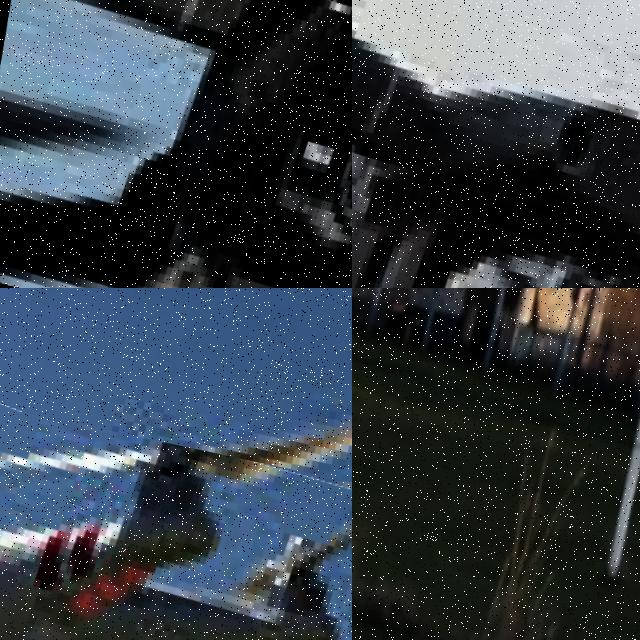drone: (0, 0, 352, 288), (0, 373, 352, 640), (352, 0, 640, 288)
